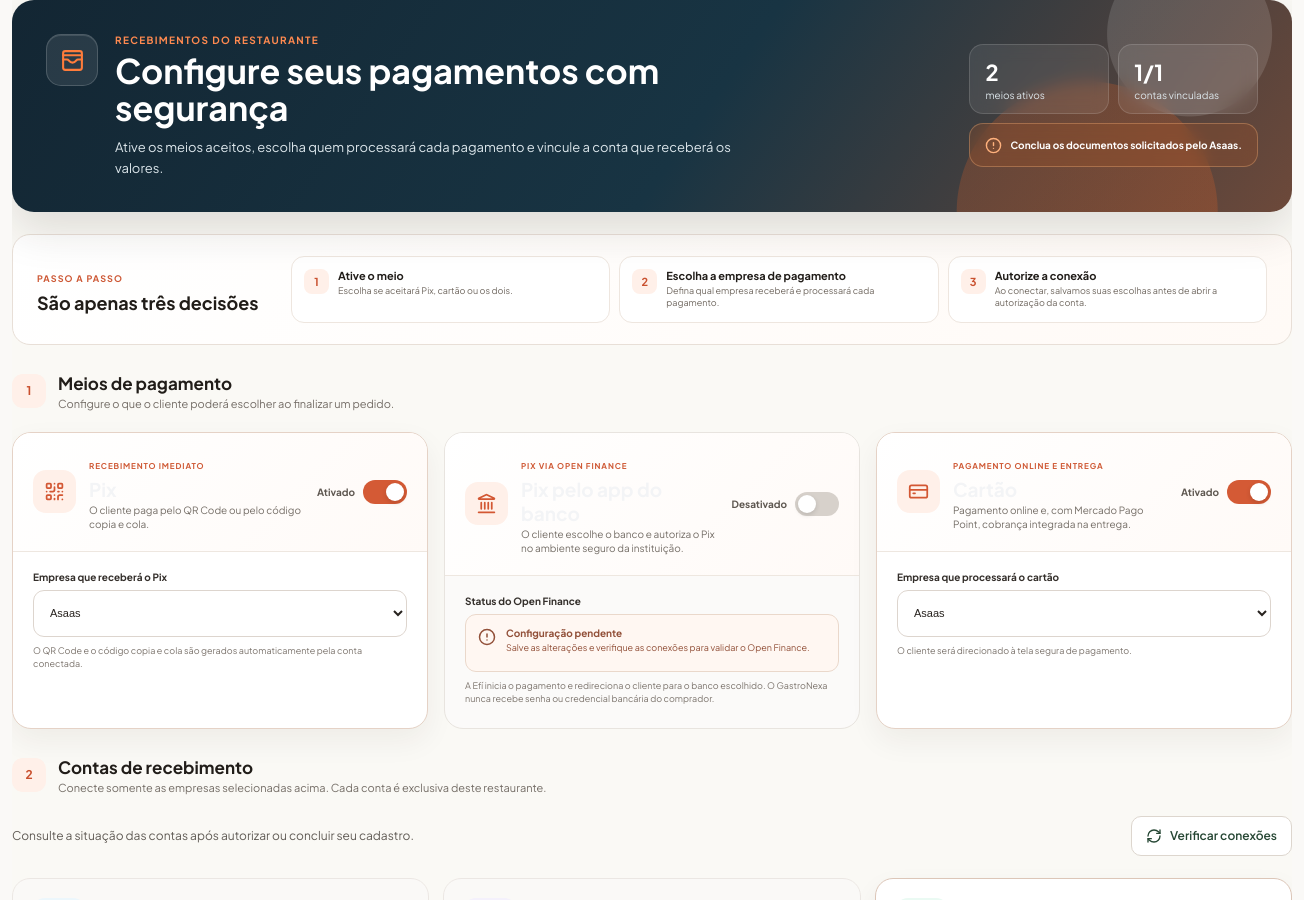
Test: PaymentSettings › mantém cadastro Asaas pendente até a aprovação e permite conferir a atualização
Expected: the text "Configuração completa" is not shown
Click the button "Verificar conexões" at (1212, 836), box [1131, 816, 1292, 856]
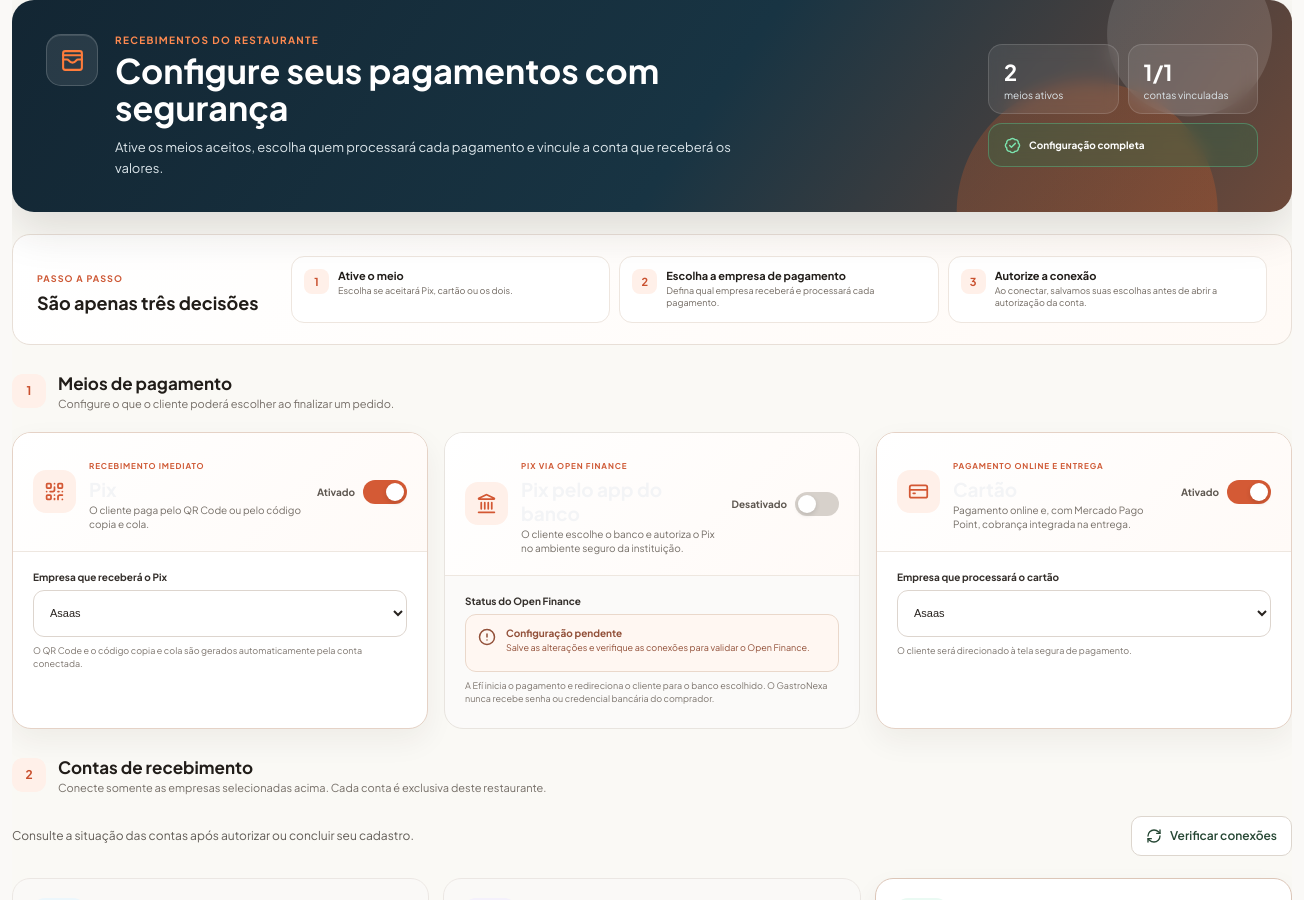
Expected: the text "Configuração completa" is shown, [1029, 139, 1145, 151]
